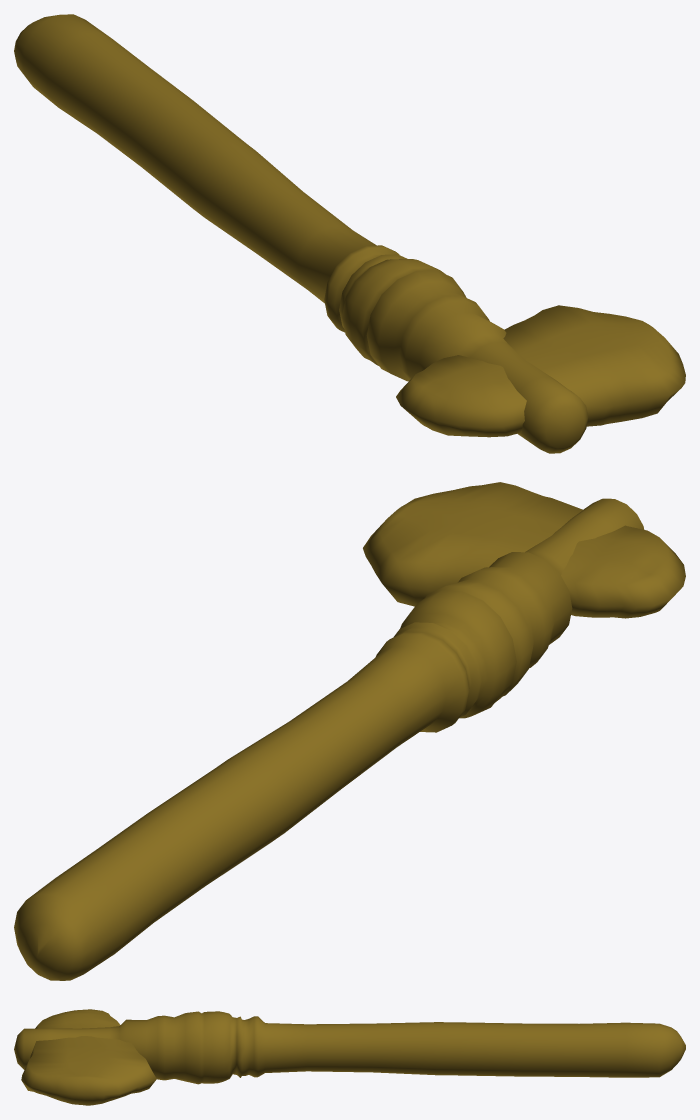
The model's file is SM_Cekic.fbx.
3 views of the same model, one above another, from view 1: azimuth 30°, elevation 25°; view 2: azimuth 150°, elevation 25°; view 3: azimuth 270°, elevation 25° (orthographic). The views are drawn at different scales.
Visible parts, largest first — view 1: OBJ_Cekic; view 2: OBJ_Cekic; view 3: OBJ_Cekic.
Boxes of the visible parts, x1,y1,x2,y2 form: OBJ_Cekic: (14,14,685,453); OBJ_Cekic: (14,482,685,980); OBJ_Cekic: (14,1009,685,1105).
Size of the model in its own units: 13.7 by 5.23 by 48.11.
